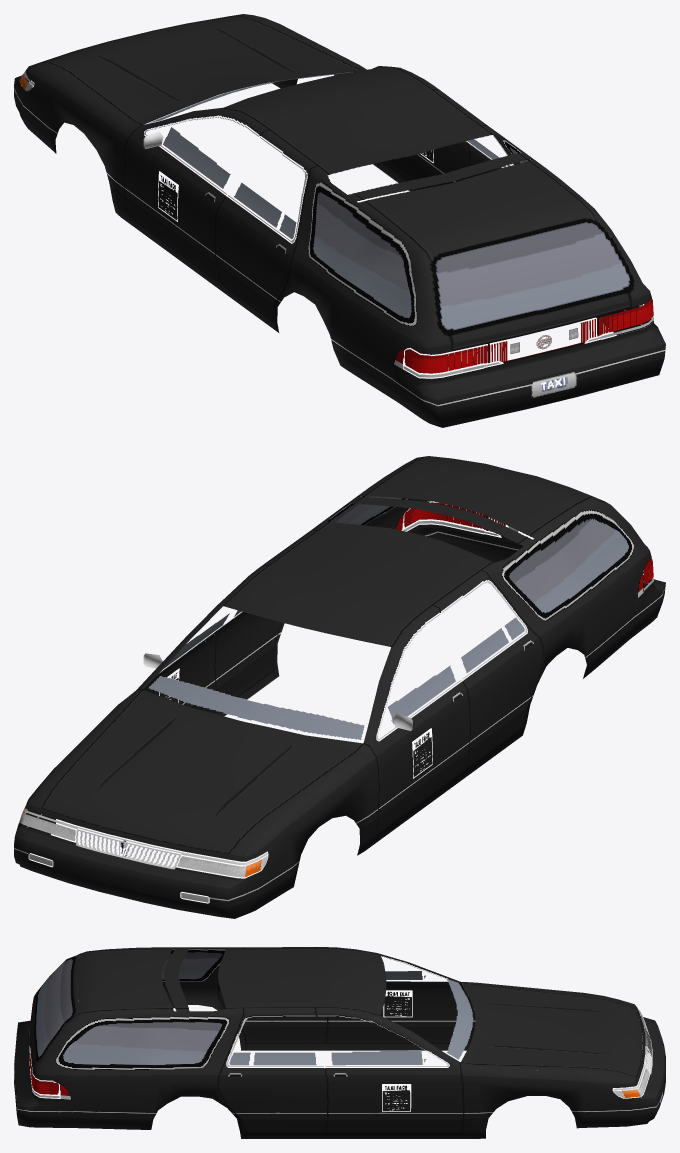
File: 92Colony.fbx
3 views of the same model, one above another, from view 1: azimuth 30°, elevation 25°; view 2: azimuth 150°, elevation 25°; view 3: azimuth 270°, elevation 25° (orthographic). The views are drawn at different scales.
Visible parts, largest first — view 1: 92colonypark; view 2: 92colonypark; view 3: 92colonypark.
Boxes of the visible parts, box(x1,y1,x2,y2) form: 92colonypark: box(14, 14, 665, 427); 92colonypark: box(14, 456, 665, 918); 92colonypark: box(14, 947, 665, 1138).
Bounding box in the file's own units: 2.03 × 1.17 × 5.74.
